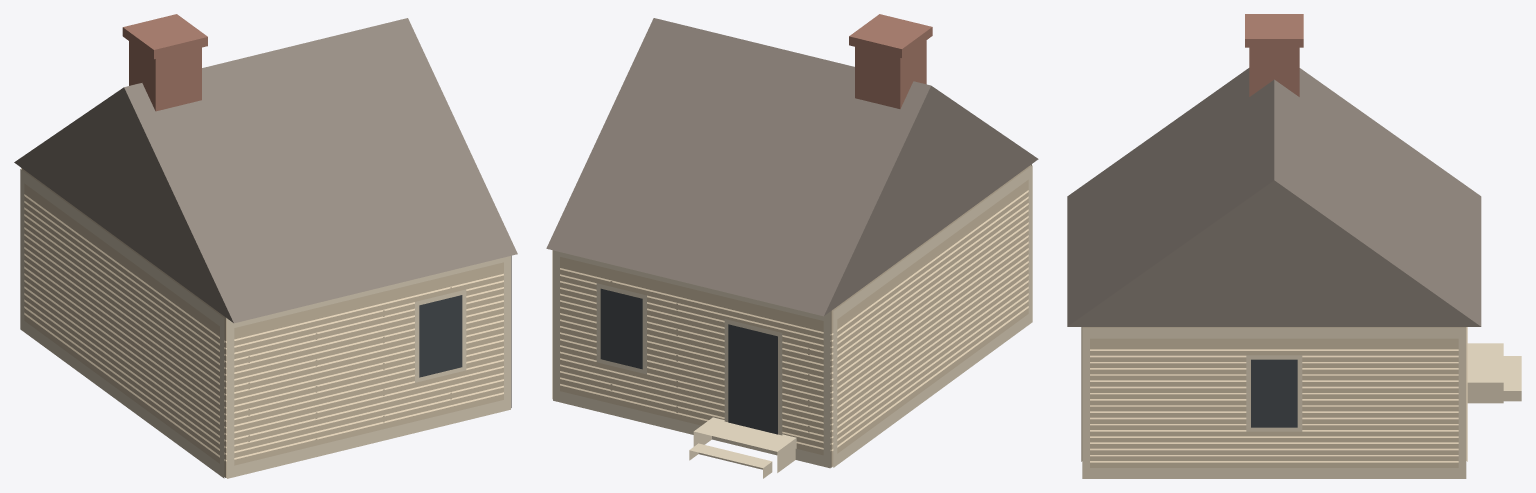
File: recon_1835_south_d3_017__inferred_1835.glb
The picture shows the model from 3 angles, left to right: view 1: azimuth 30°, elevation 25°; view 2: azimuth 150°, elevation 25°; view 3: azimuth 270°, elevation 25°; orthographic projection. The views are drawn at different scales.
Visible parts, largest first — view 1: recon_1835_south_d3_017__inferred_1835; view 2: recon_1835_south_d3_017__inferred_1835; view 3: recon_1835_south_d3_017__inferred_1835.
Part boxes in pixels (x1,y1,x2,y2): recon_1835_south_d3_017__inferred_1835: (14, 14, 517, 478); recon_1835_south_d3_017__inferred_1835: (546, 14, 1038, 478); recon_1835_south_d3_017__inferred_1835: (1067, 14, 1521, 478).
Size of the model in its own units: 5.22 by 6.26 by 7.57.
